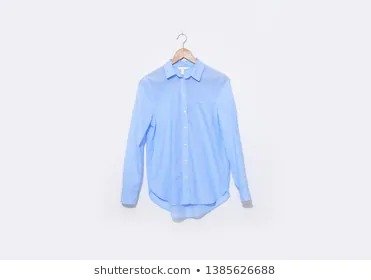S_blouse: (115, 59, 258, 217)
